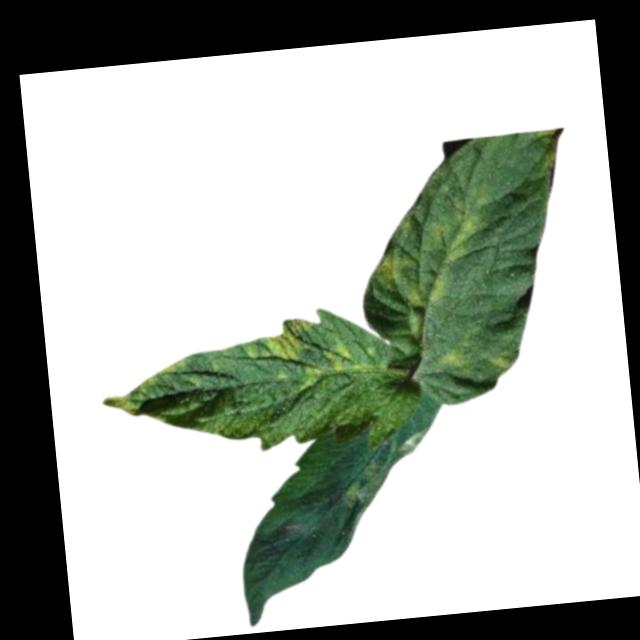Leaf_Mold: (339, 426, 434, 511), (428, 191, 495, 263), (257, 316, 315, 363), (369, 251, 413, 287), (323, 336, 361, 374), (100, 389, 143, 419), (439, 343, 476, 370), (294, 363, 323, 391), (491, 350, 514, 370)
